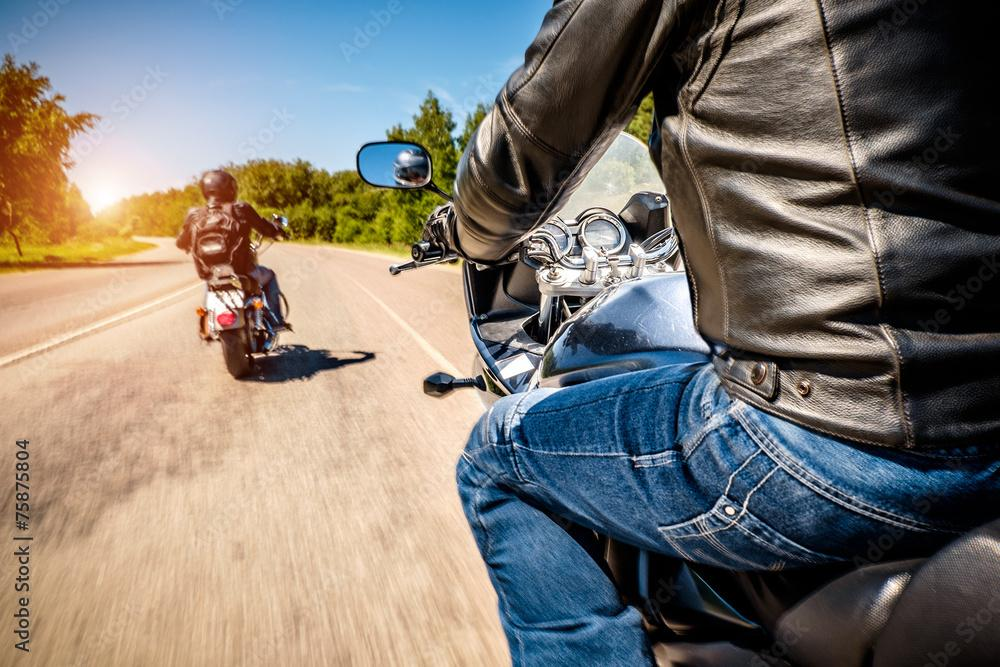helmet: (393, 148, 433, 188), (199, 169, 239, 205)
